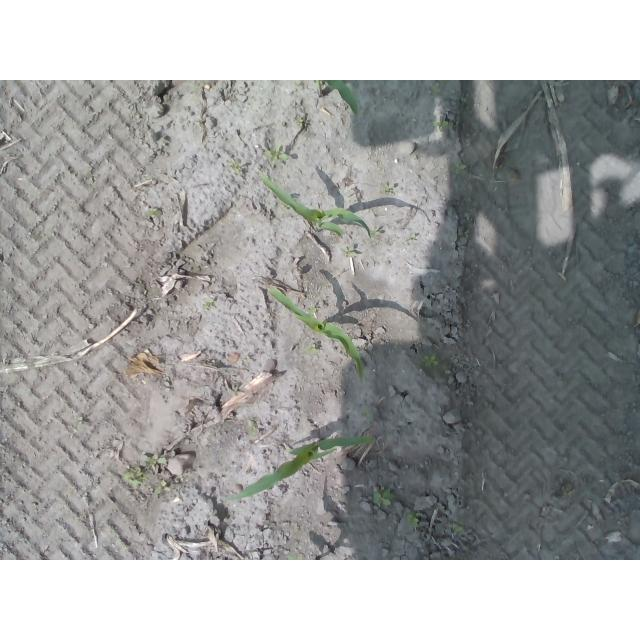Maize: (223, 434, 375, 502), (264, 283, 366, 383), (257, 171, 372, 242), (314, 80, 363, 117)
Weeds: (122, 466, 147, 486), (267, 143, 290, 161), (374, 487, 394, 507), (421, 353, 439, 368), (340, 245, 360, 258), (146, 454, 167, 466), (201, 297, 218, 311), (430, 118, 450, 129), (157, 480, 172, 494), (229, 160, 242, 174), (454, 161, 466, 175), (407, 515, 418, 529), (144, 208, 161, 217), (430, 80, 442, 92), (455, 525, 466, 535), (248, 424, 256, 436), (307, 344, 317, 353), (372, 228, 380, 236), (384, 184, 391, 193), (191, 84, 198, 92)
